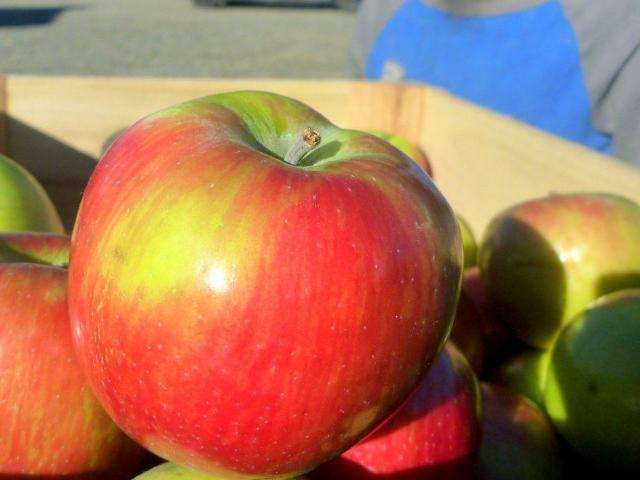Apples: (69, 91, 461, 477)
